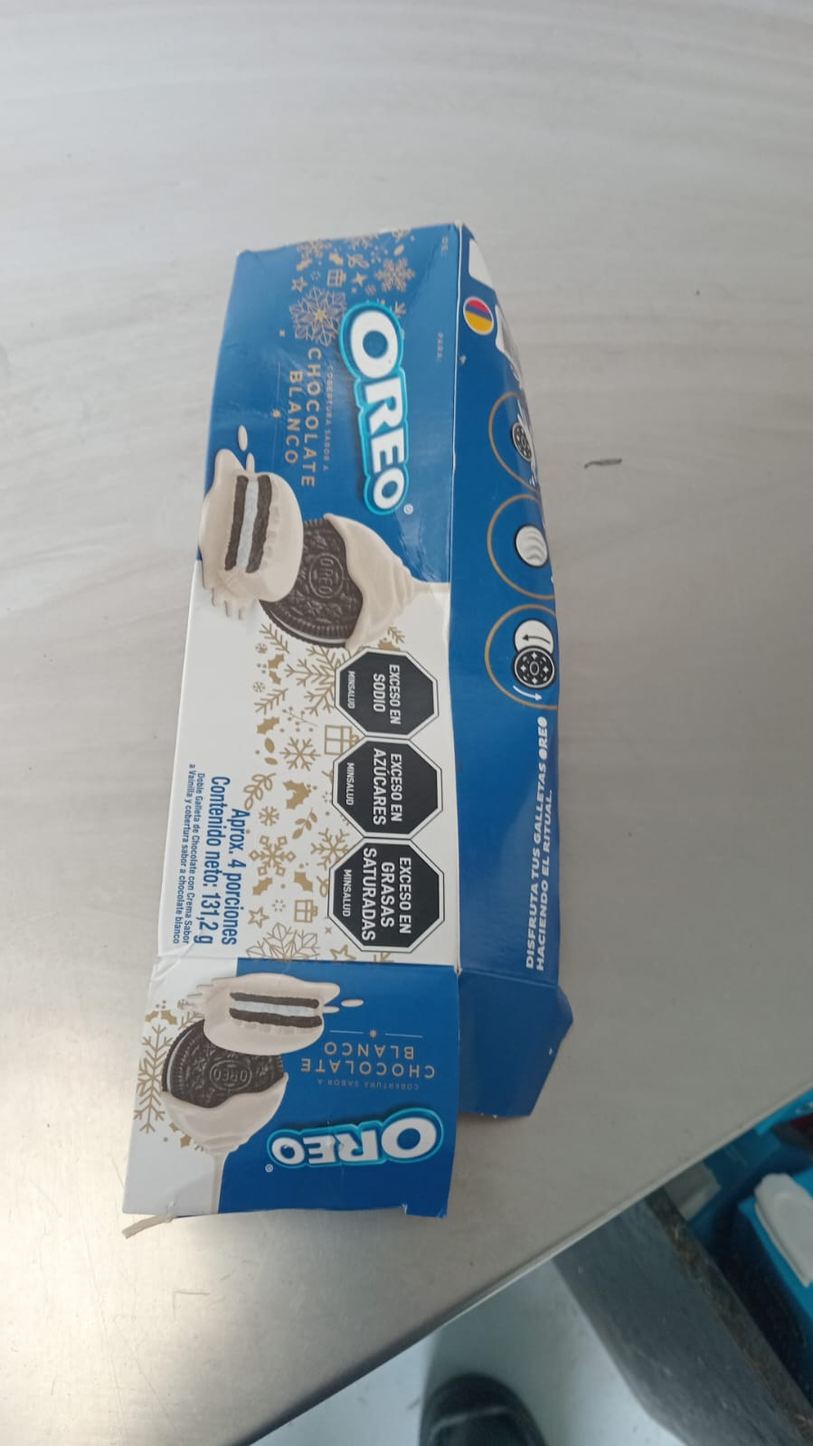Carton: (131, 220, 565, 1216)
